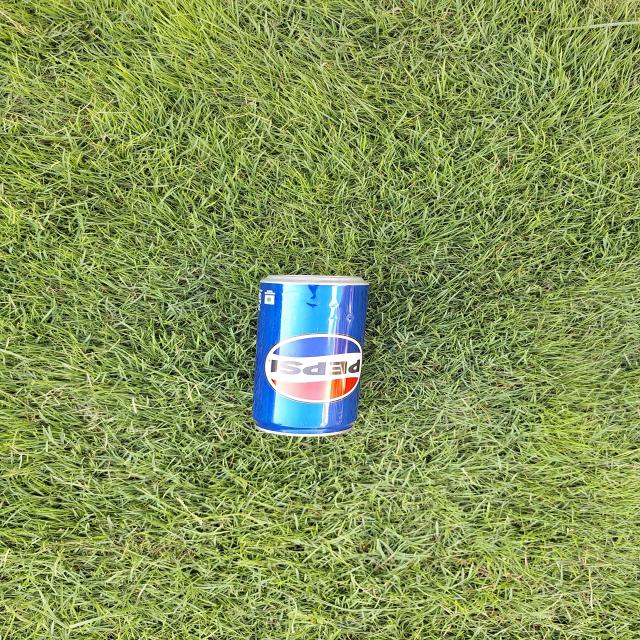Pepsi: (248, 270, 372, 436)
